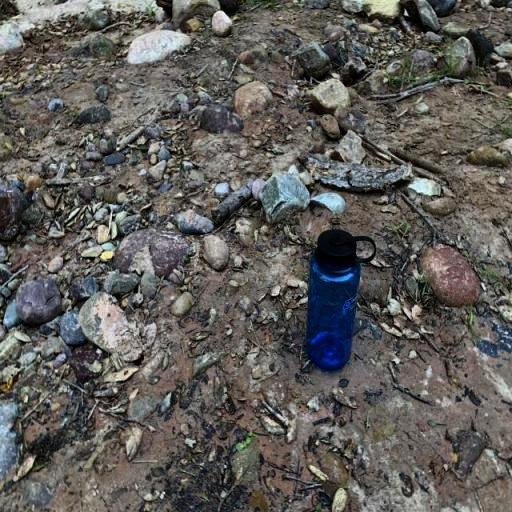bottle: (306, 229, 376, 370)
